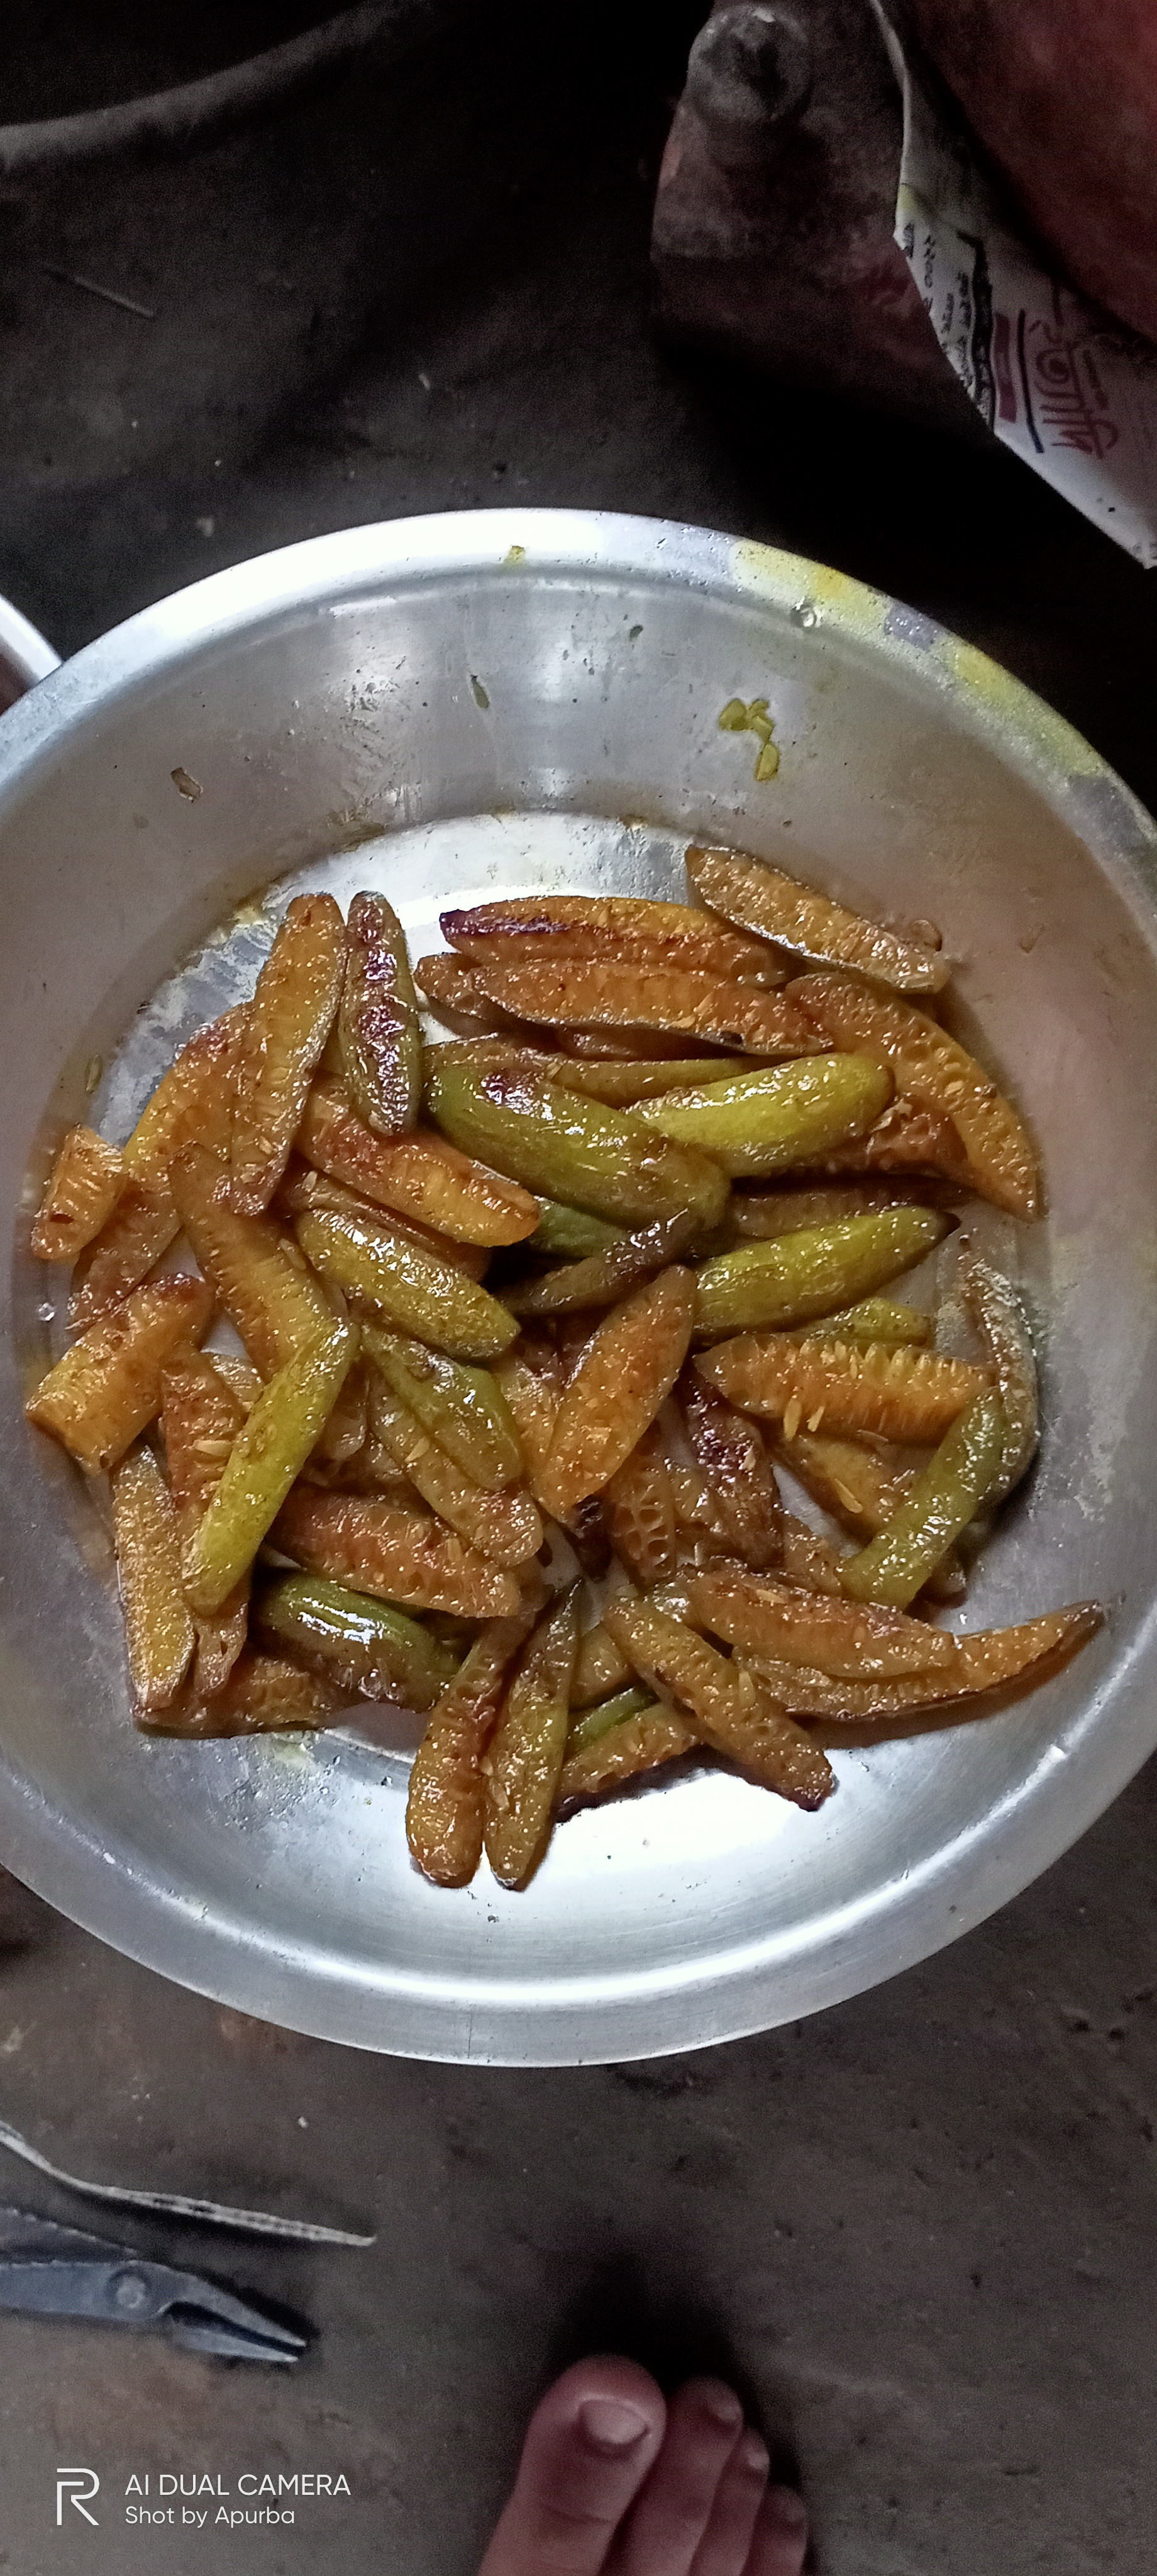food: (20, 823, 1116, 1894)
